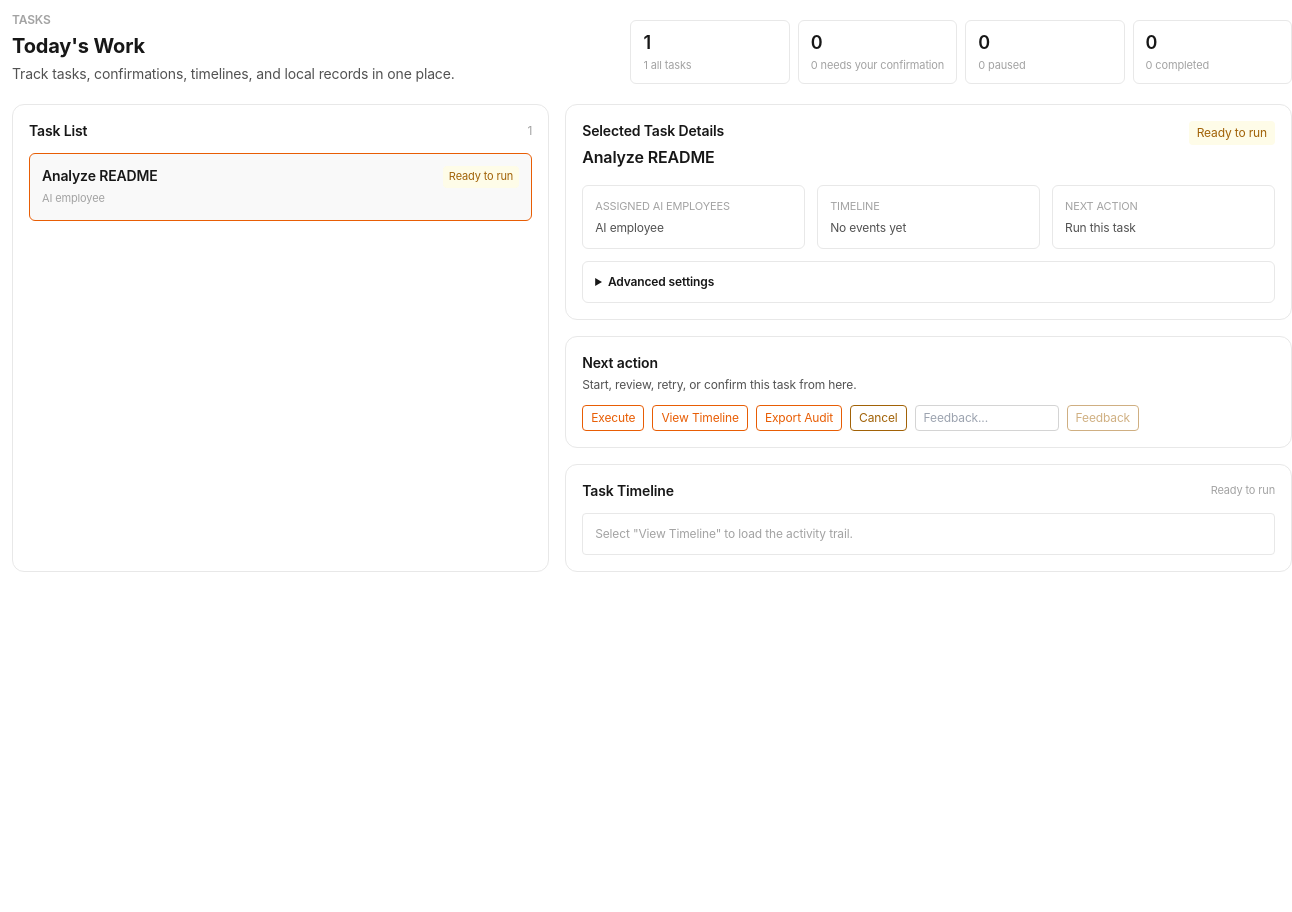
Test: WorkOrders › exports an audit package from the audit export endpoint
The image size is (1292, 912).
Click the button "Export Audit" at x=799, y=418, box [756, 405, 842, 431]
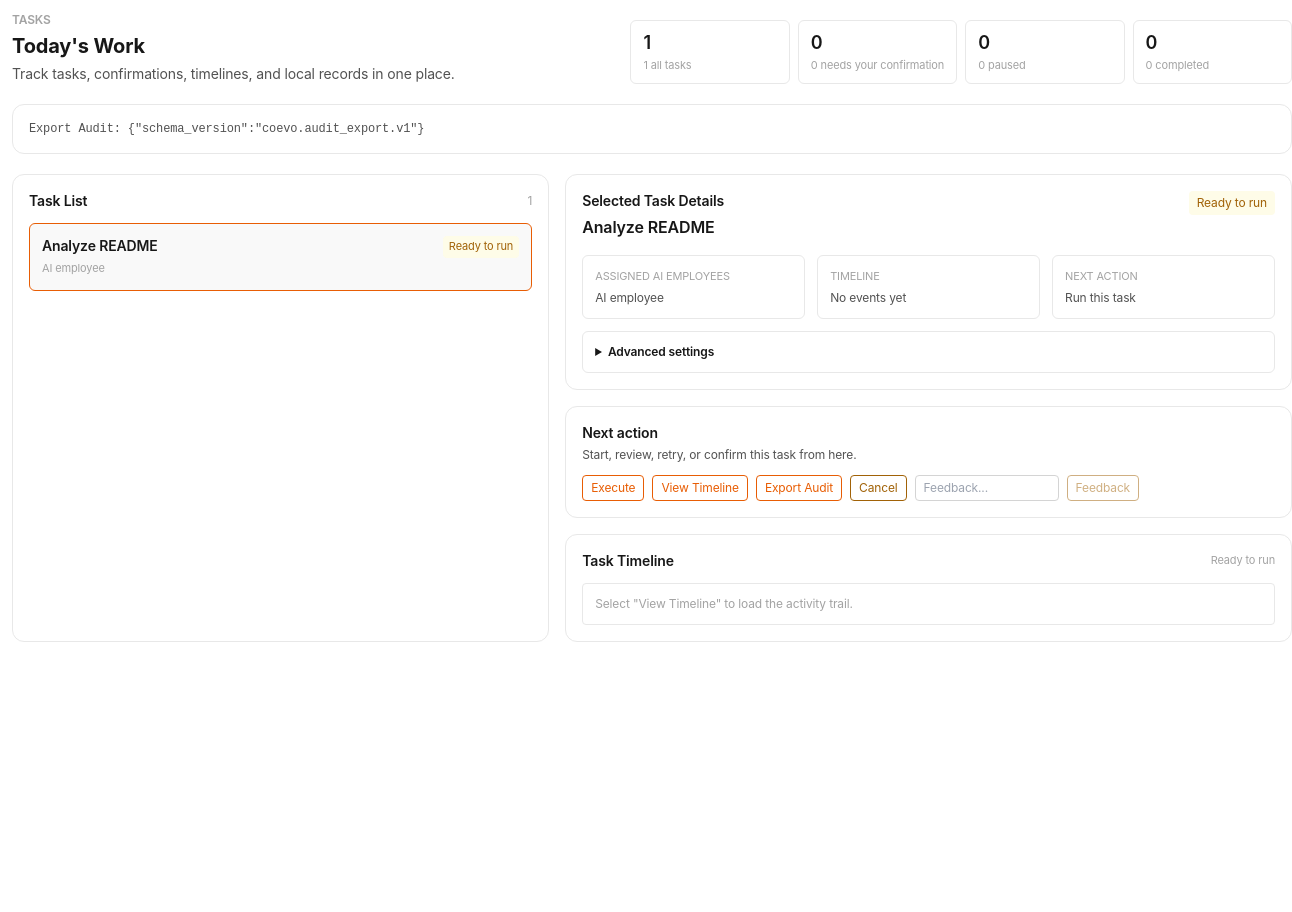
Expected: the text "Export Audit" is shown, [29, 122, 424, 136]
Now the text "coevo.audit_export.v1" is shown, box [29, 122, 424, 136]
